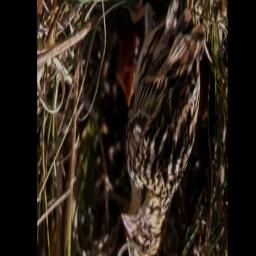Sparrow: (119, 0, 207, 256)
